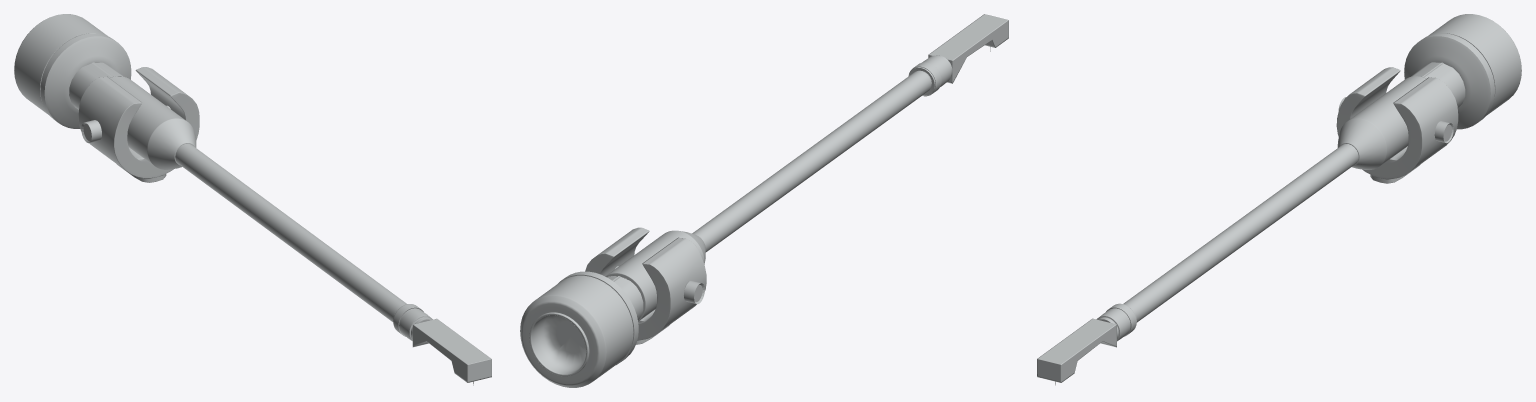
Rendered from giraDischi_punta.fbx.
The picture shows the model from 3 angles, left to right: view 1: azimuth 30°, elevation 25°; view 2: azimuth 150°, elevation 25°; view 3: azimuth 330°, elevation 25°; orthographic projection.
Visible parts, largest first — view 1: gd_punta_LOD0; view 2: gd_punta_LOD0; view 3: gd_punta_LOD0.
Boxes of the visible parts, box(x1,y1,x2,y2) form: gd_punta_LOD0: box(14, 14, 491, 385); gd_punta_LOD0: box(520, 14, 1008, 387); gd_punta_LOD0: box(1037, 14, 1521, 385).
Size of the model in its own units: 3.06 by 2.66 by 21.79.
